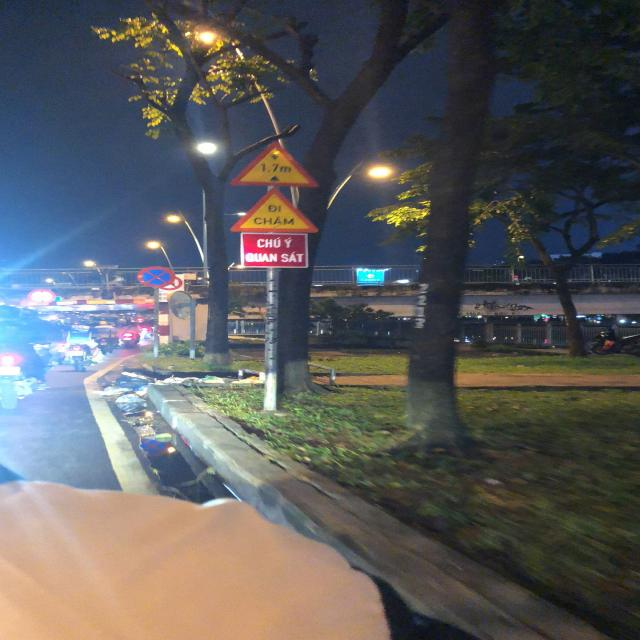Bien bao cam dung xe va do xe: (135, 264, 175, 288)
Bien bao chieu cao tinh khong thuc te: (227, 141, 325, 190)
Bien bao di cham: (222, 187, 324, 234)
